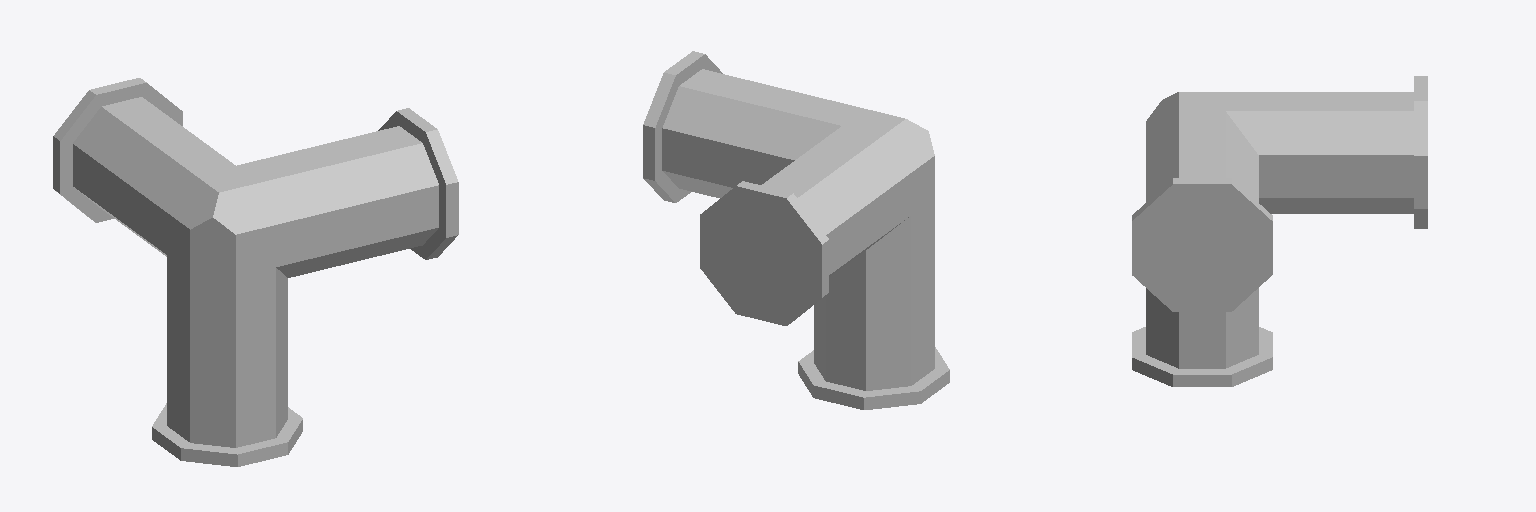
File: pipeworks_pipe_5_lowpoly.obj
The picture shows the model from 3 angles: view 1: azimuth 30°, elevation 25°; view 2: azimuth 150°, elevation 25°; view 3: azimuth 270°, elevation 25°; orthographic projection.
Parts seen in each view (by area): view 1: Cylinder.000_Cylinder.000_None_pipeworks_pipe_plain.png.000; view 2: Cylinder.000_Cylinder.000_None_pipeworks_pipe_plain.png.000; view 3: Cylinder.000_Cylinder.000_None_pipeworks_pipe_plain.png.000.
Part boxes in pixels (x1,y1,x2,y2): Cylinder.000_Cylinder.000_None_pipeworks_pipe_plain.png.000: (53,78,458,466); Cylinder.000_Cylinder.000_None_pipeworks_pipe_plain.png.000: (643,51,949,409); Cylinder.000_Cylinder.000_None_pipeworks_pipe_plain.png.000: (1132,76,1427,386).
Bounding box in the file's own units: 0.6562 × 0.6562 × 0.6562.